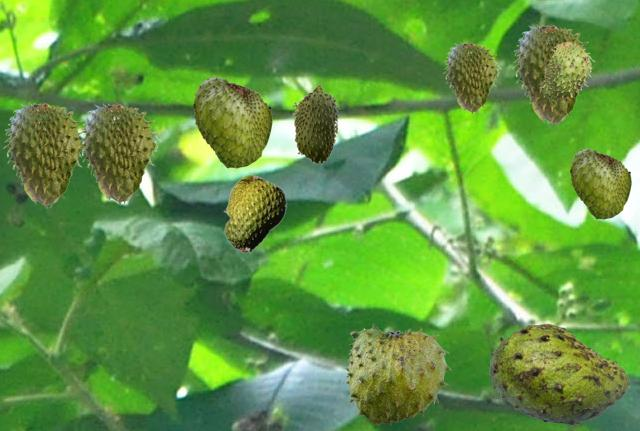guyabano: (488, 323, 629, 424), (344, 323, 450, 424), (3, 102, 83, 207), (78, 103, 160, 204), (512, 24, 594, 125), (193, 75, 271, 167), (223, 174, 286, 253), (570, 147, 630, 218), (443, 42, 500, 113), (292, 84, 339, 163), (539, 42, 590, 100)
